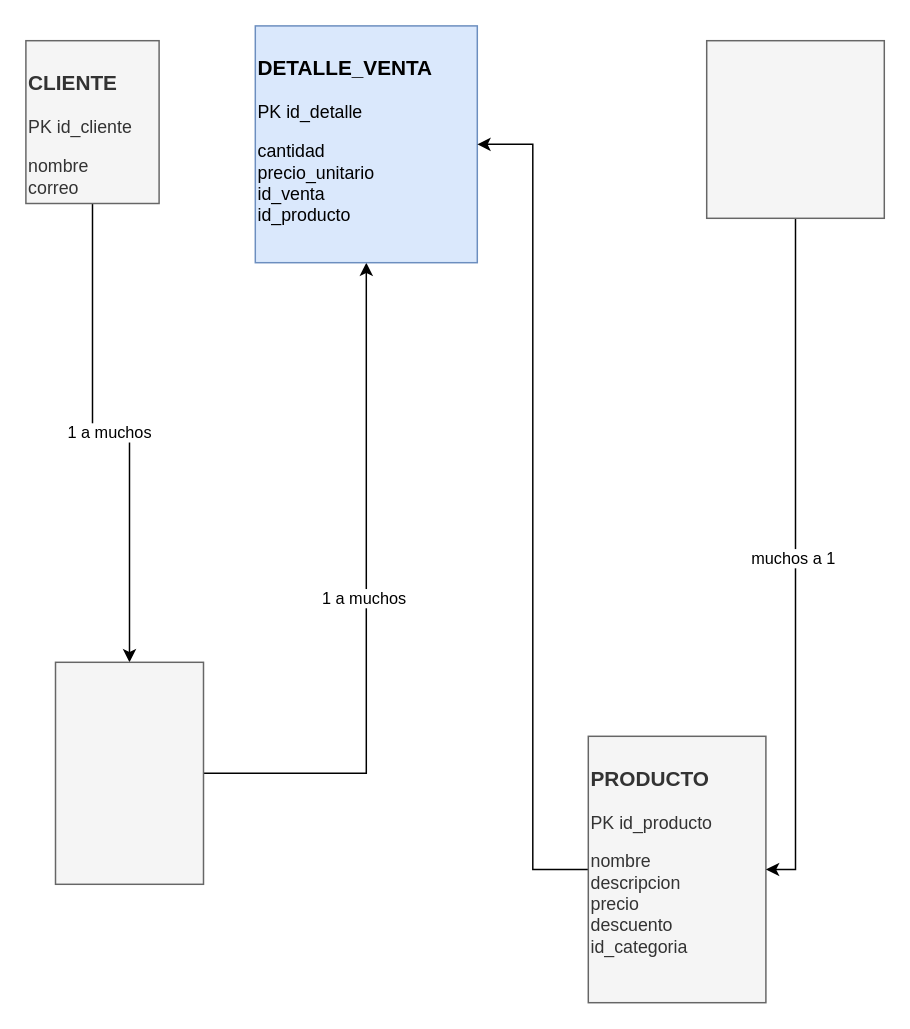
Some shapes in this 910 by 1029 pixel diagram are drawn without their labels. Here are the shapes that lost their labels. From the top down, the box of each, then its label:
(705, 39, 884, 218): CATEGORIA PK id_categoria nombre
(54, 661, 204, 884): VENTA PK id_venta fecha total id_cliente
